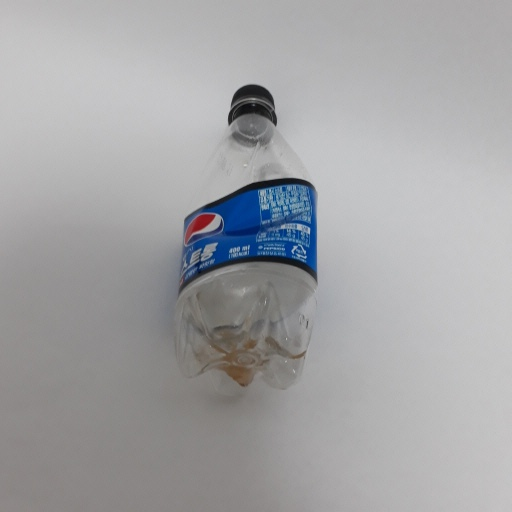Plastic_0: (169, 81, 322, 414)
